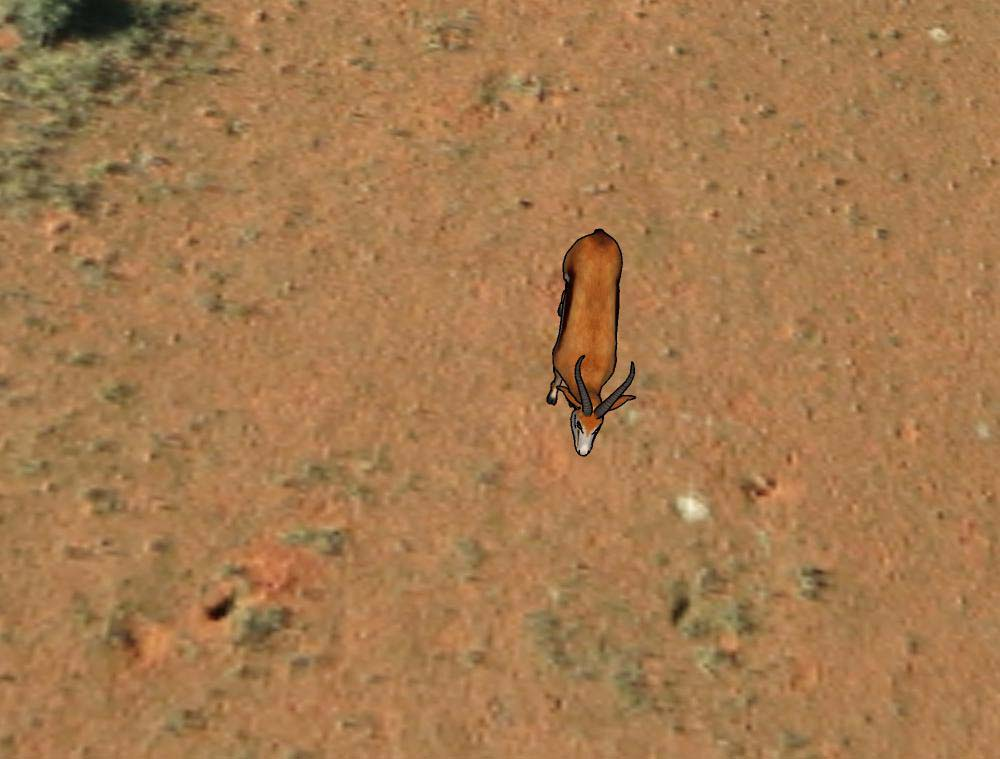springbok: (537, 221, 638, 463)
